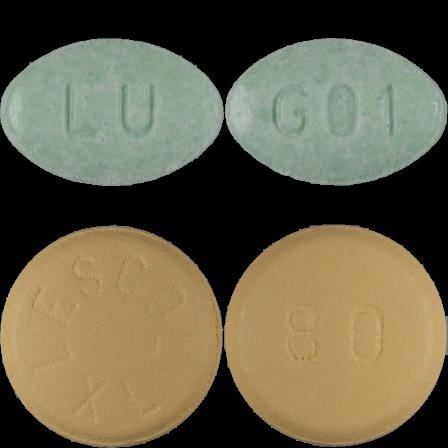54868-4593: (0, 0, 224, 224)
